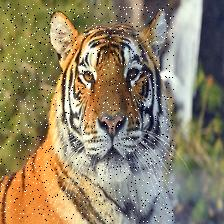tiger: (0, 4, 174, 223)
